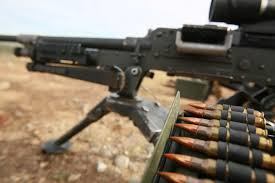gun: (1, 0, 273, 180)
